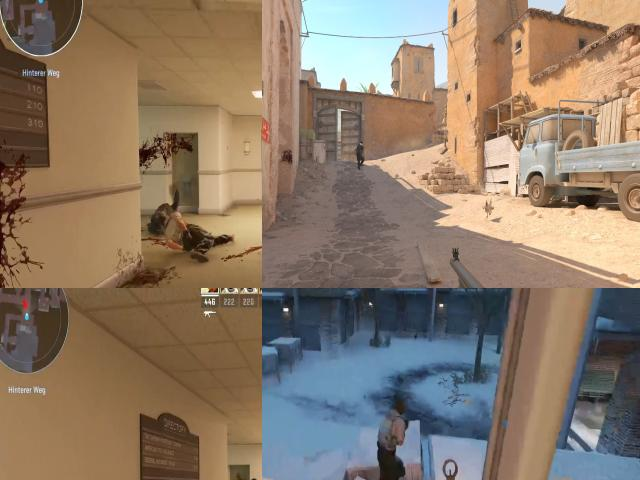CT: (356, 141, 365, 170)
CT-Head: (360, 140, 363, 144)
Dead: (156, 208, 223, 262)
T: (379, 410, 407, 476)
T-Head: (386, 398, 413, 420), (247, 477, 259, 480)
